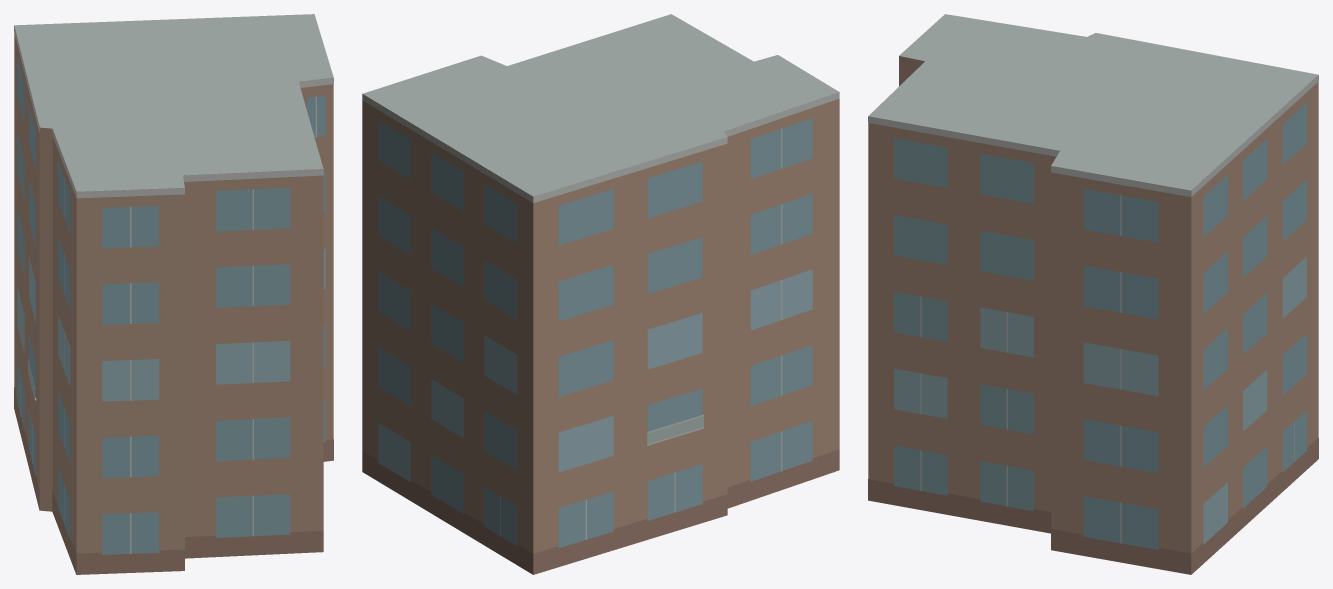
Rendered from survey-upis-32976605.glb.
The picture shows the model from 3 angles, left to right: view 1: azimuth 30°, elevation 25°; view 2: azimuth 150°, elevation 25°; view 3: azimuth 270°, elevation 25°; orthographic projection.
Visible parts, largest first — view 1: survey-upis-32976605.tmp; view 2: survey-upis-32976605.tmp; view 3: survey-upis-32976605.tmp.
Part boxes in pixels (box(x1,y1,x2,y2)): survey-upis-32976605.tmp: box(14, 14, 333, 574); survey-upis-32976605.tmp: box(362, 14, 839, 574); survey-upis-32976605.tmp: box(868, 14, 1318, 574).
Size of the model in its own units: 14 by 14.2 by 15.1.
